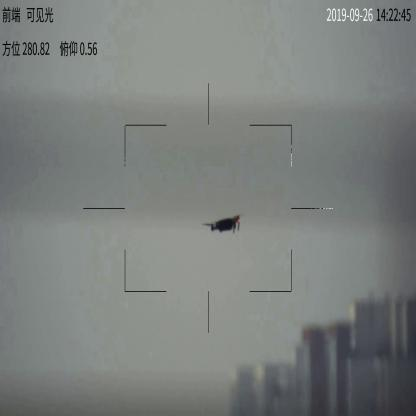uav: (202, 214, 244, 234)
